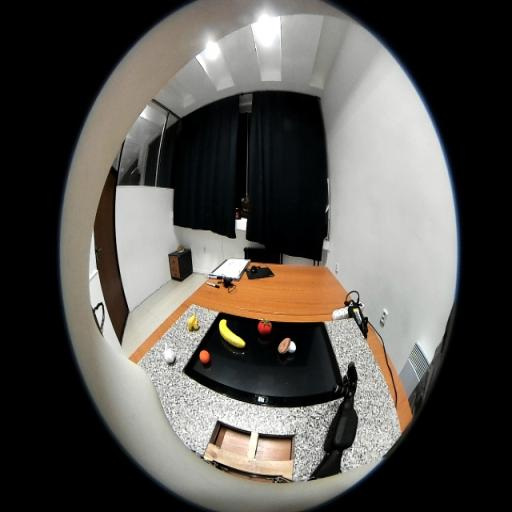Banana: (218, 319, 246, 348)
Duck: (188, 314, 200, 331)
Mushroom: (278, 337, 296, 354)
Onion: (164, 342, 176, 363)
Orange: (199, 350, 211, 364)
RightHand: (344, 382, 357, 400)
Tomato: (258, 320, 272, 335)
